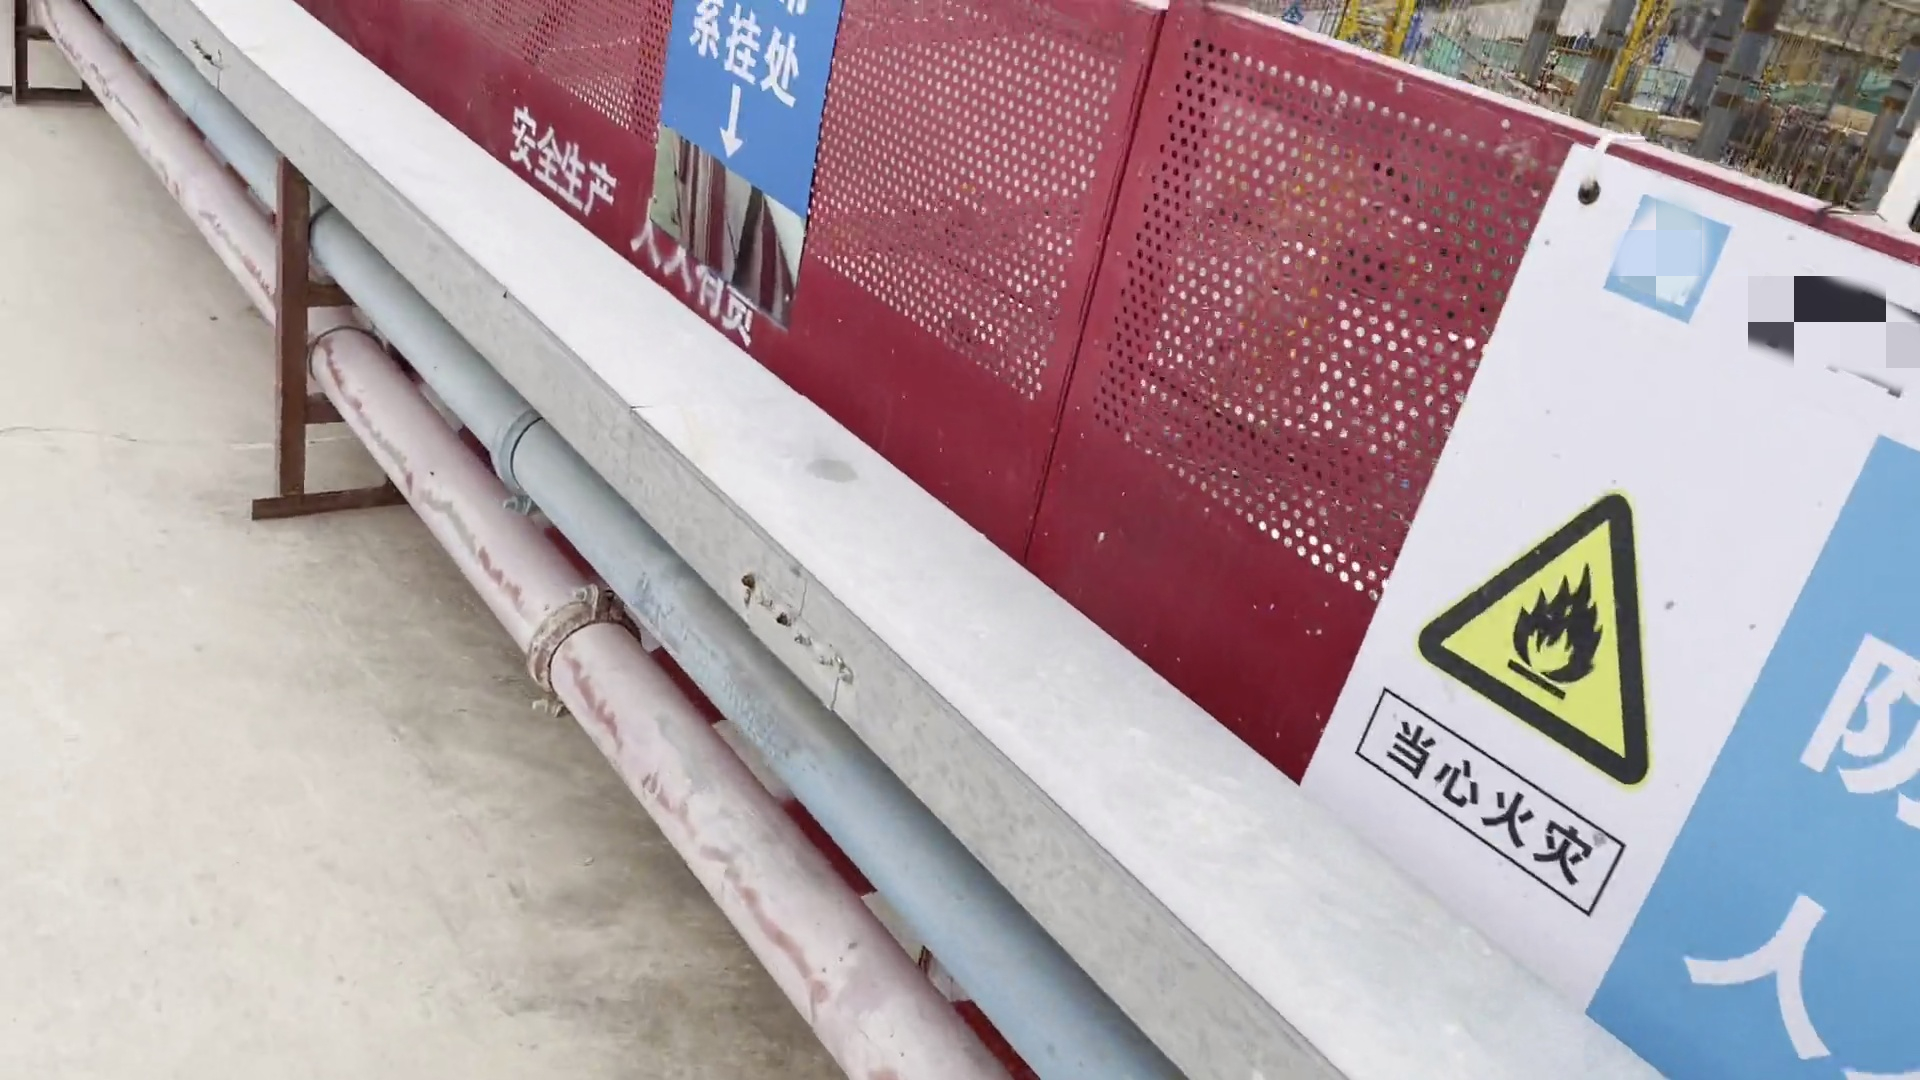fence: (303, 1, 1319, 815), (1302, 34, 1920, 1080)
slogan: (1284, 98, 1920, 1080), (603, 1, 953, 396)
